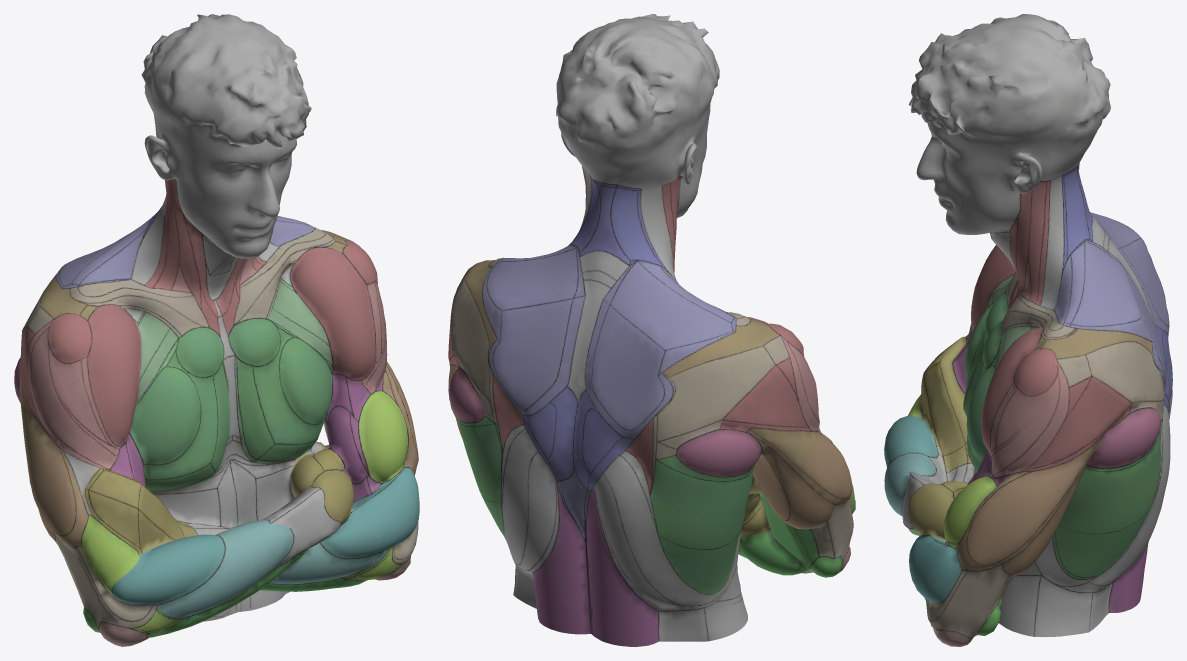
File: 人物其它_20260324202038_opt.glb
The picture shows the model from 3 angles, left to right: view 1: azimuth 30°, elevation 25°; view 2: azimuth 150°, elevation 25°; view 3: azimuth 270°, elevation 25°; orthographic projection.
Visible parts, largest first — view 1: MX_UV_LOW; view 2: MX_UV_LOW; view 3: MX_UV_LOW.
Part boxes in pixels (left/top/right/bottom): MX_UV_LOW: left=14, top=14, right=419, bottom=646; MX_UV_LOW: left=448, top=14, right=855, bottom=646; MX_UV_LOW: left=884, top=14, right=1172, bottom=646.
Bounding box in the file's own units: 0.2728 × 0.4 × 0.1849.
Materials: 2 (1 with a texture image).
